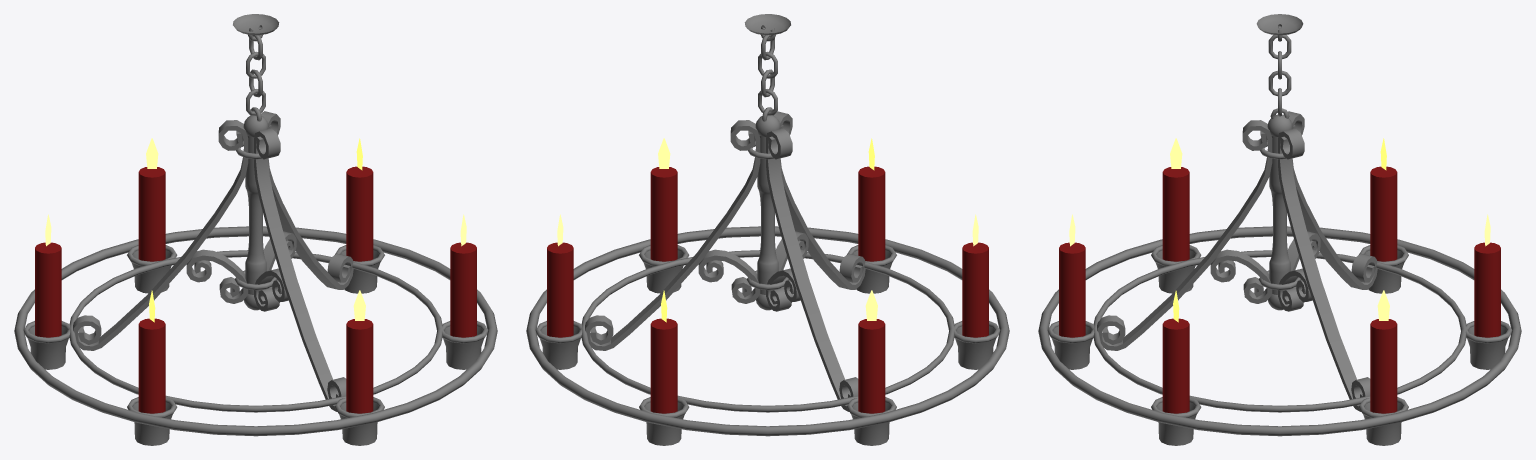
Rendered from Ceiling_Candle_Holder.fbx.
3 renders of one model, left to right at view 1: azimuth 30°, elevation 25°; view 2: azimuth 150°, elevation 25°; view 3: azimuth 270°, elevation 25°, orthographic.
Parts seen in each view (by area): view 1: Ceiling_Candle_Holder_LOD0; view 2: Ceiling_Candle_Holder_LOD0; view 3: Ceiling_Candle_Holder_LOD0.
Part boxes in pixels (bbox=[...]): Ceiling_Candle_Holder_LOD0: bbox=[14, 14, 497, 445]; Ceiling_Candle_Holder_LOD0: bbox=[526, 14, 1009, 445]; Ceiling_Candle_Holder_LOD0: bbox=[1038, 14, 1521, 445].
Size of what is drawn, in the model's own units: 95.75 by 74.05 by 95.75.
